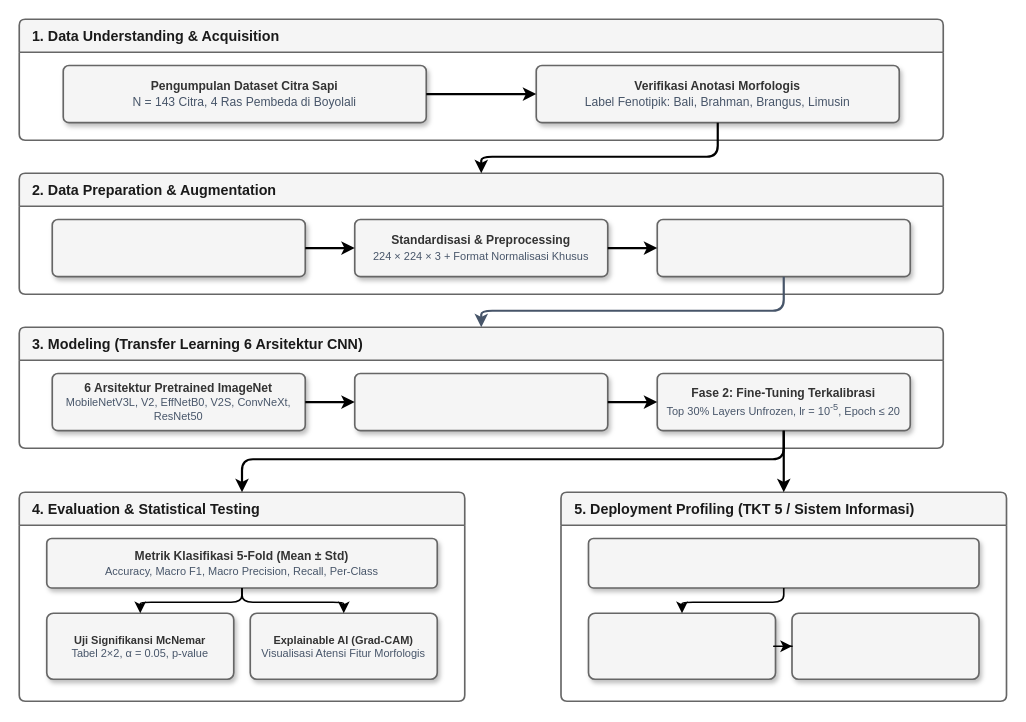
Image size: 1026x722. Some labels were removed from this diagram. Here are the shapes that lost their labels. From the top down, the centre of each, then its label:
At (179,249): "Stratified 5-Fold CV Splitting Partisi 80% Latih / 20% Validasi per Fold".
At (784,249): "Augmentasi Data On-The-Fly Rotasi ±25°, Zoom, Shift, Brightness, Flip".
At (482,403): "Fase 1: Feature Extraction Backbone Frozen, lr = 10 -3 , Epoch ≤ 30".
At (784,564): "Konversi Format TFLite (FP32) Serialisasi FlatBuffers Model Terlatih".
At (682,647): "Benchmarking Edge CPU Latensi (ms) & Ukuran File (MB)".
At (886,647): "Integrasi Sistem Terpadu Mobile Offline-First & Web Backend".
